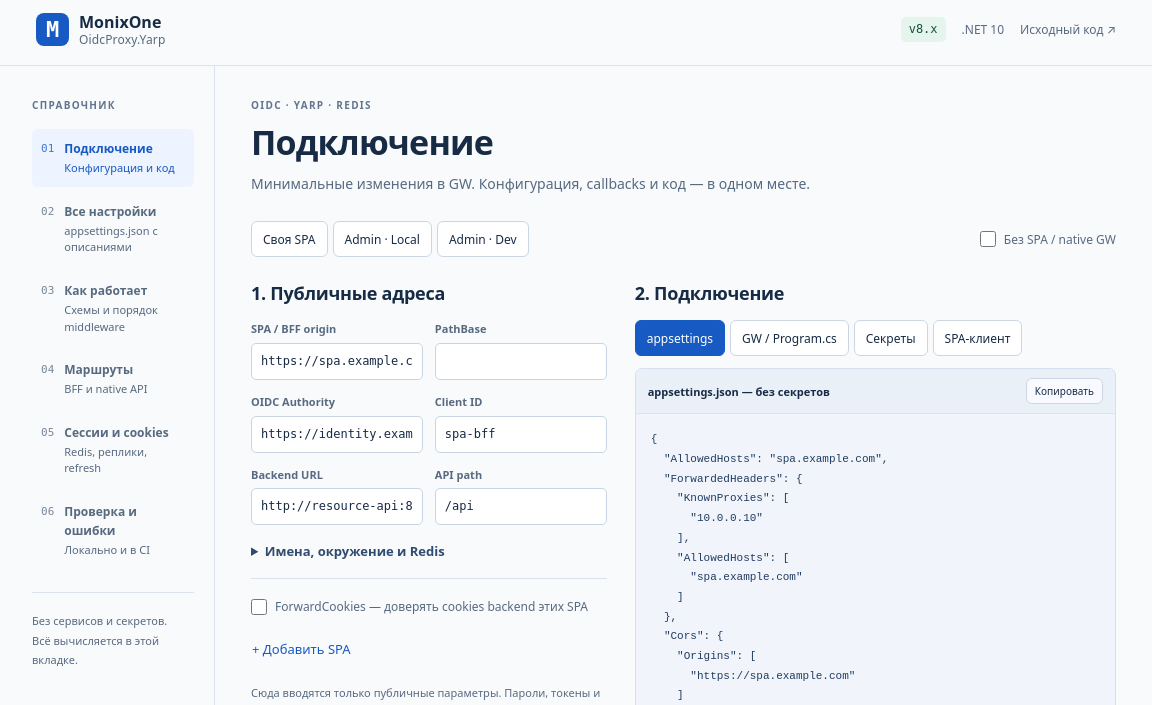
Test: selects Local and Dev presets with distinct public callbacks
The width and height of the screenshot is (1152, 705).
Click the button "Admin · Local" at [382, 239], box top-left (332, 221), bottom-right (432, 257)
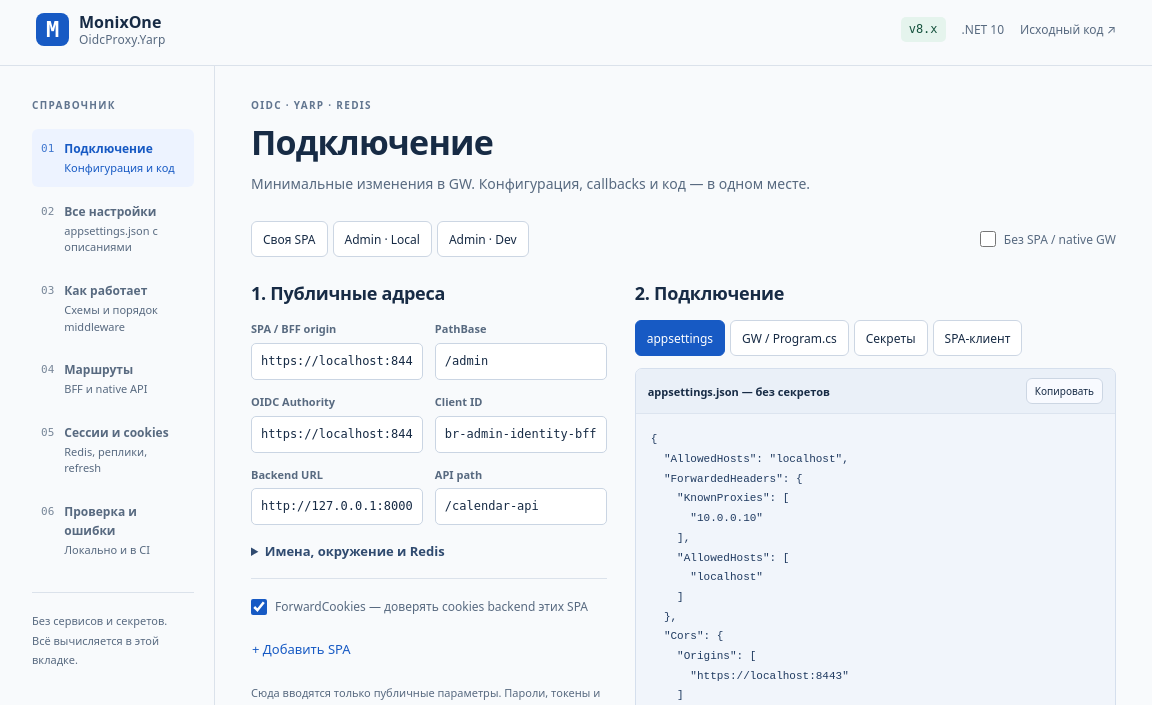
Click the button "Admin · Dev" at [483, 239], box top-left (437, 221), bottom-right (528, 257)
(page scrolled)
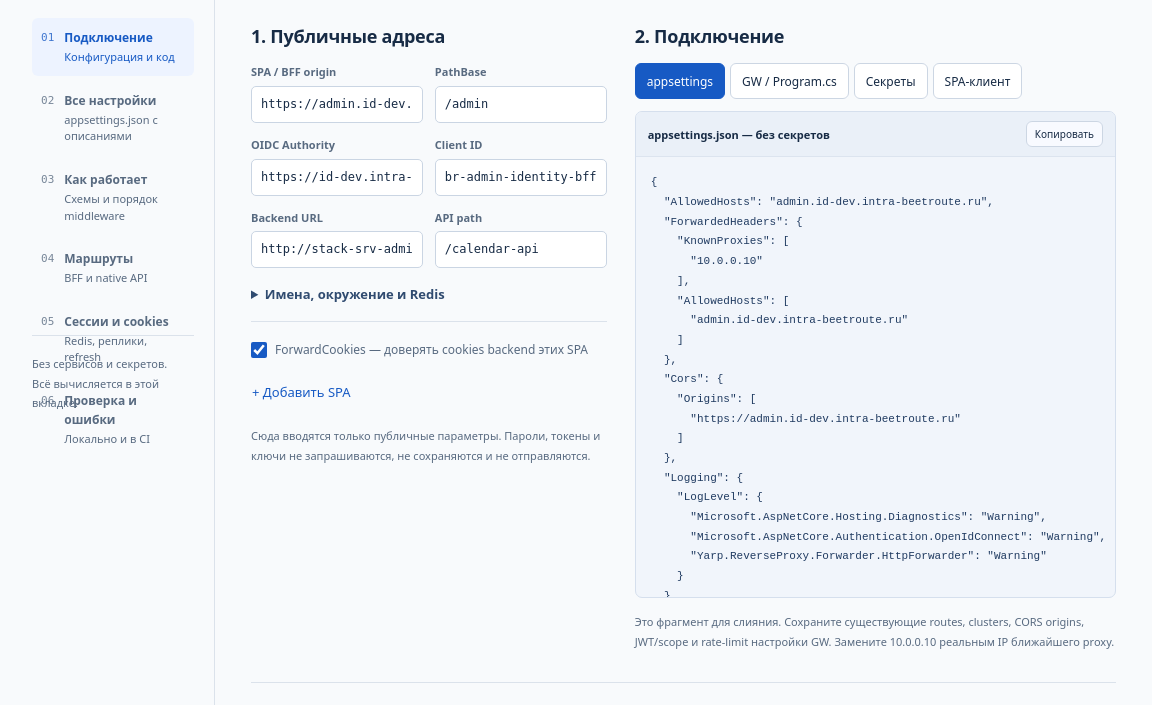
Check: the element "appsettings.json — без секретов" no longer shows "localhost", box top-left (635, 111), bottom-right (1116, 598)
